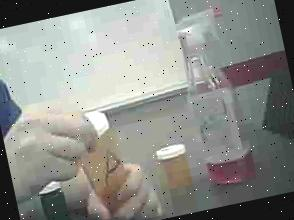Bottle A: (51, 83, 169, 220)
Bottle B: (151, 134, 199, 195)
Bottle C: (26, 164, 79, 220)
hazard: (162, 0, 276, 195)
